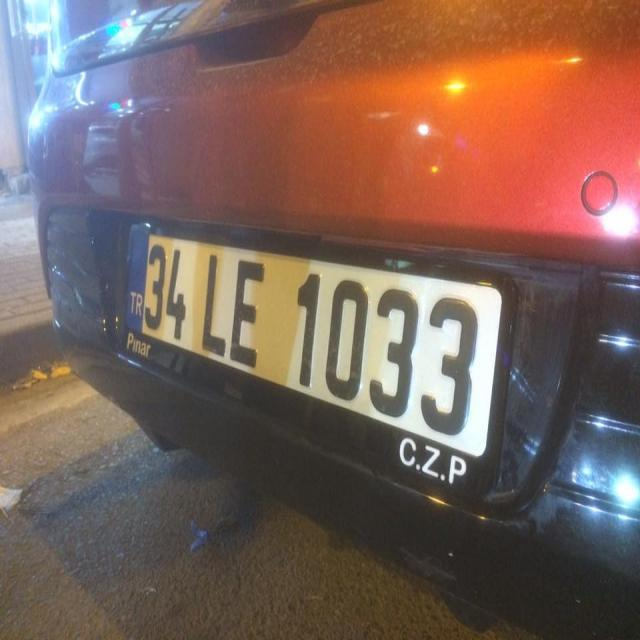plate: (118, 220, 523, 509)
